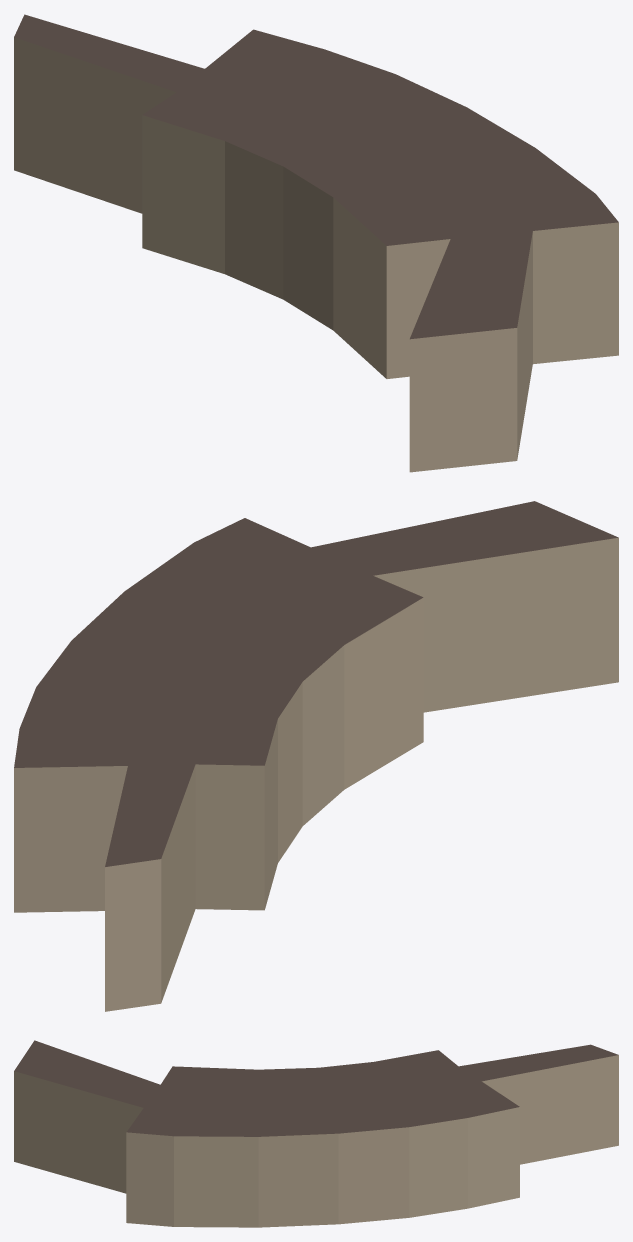
3 views of the same model, one above another, from view 1: azimuth 30°, elevation 25°; view 2: azimuth 150°, elevation 25°; view 3: azimuth 270°, elevation 25° (orthographic). The views are drawn at different scales.
Visible parts, largest first — view 1: HP-w299224152; view 2: HP-w299224152; view 3: HP-w299224152.
Boxes of the visible parts, x1=… form: HP-w299224152: x1=14, y1=14, x2=618, y2=472; HP-w299224152: x1=14, y1=501, x2=618, y2=1011; HP-w299224152: x1=14, y1=1040, x2=618, y2=1227.
Bounding box in the file's own units: 20.55 × 9 × 54.41.
